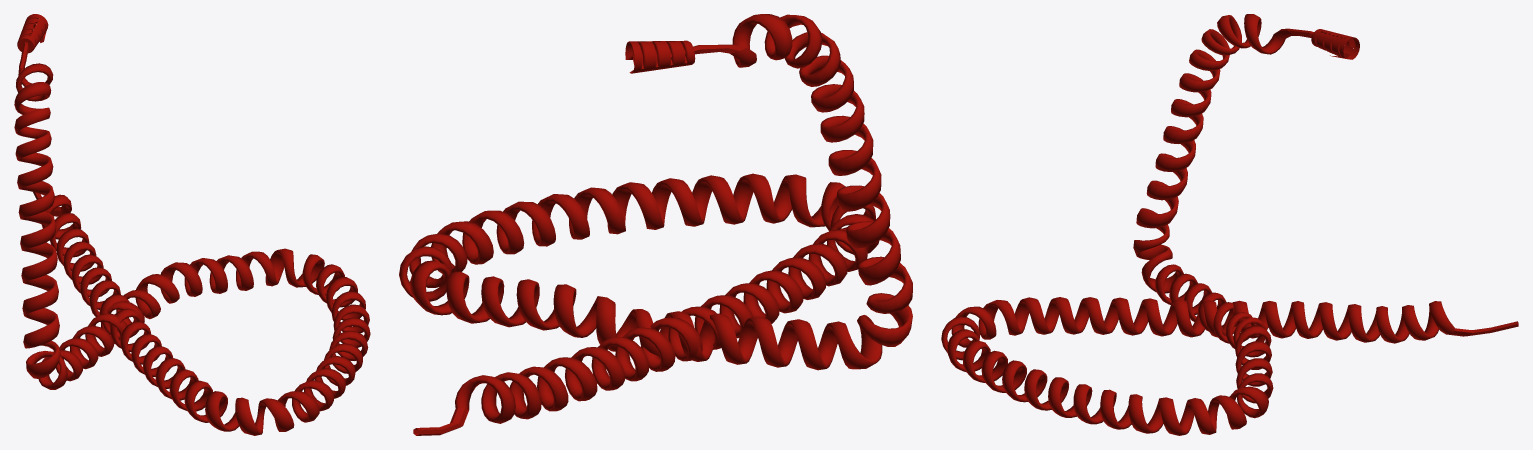
Rendered from phone_cable.glb.
3 renders of one model, left to right at view 1: azimuth 30°, elevation 25°; view 2: azimuth 150°, elevation 25°; view 3: azimuth 270°, elevation 25°, orthographic. The views are drawn at different scales.
Visible parts, largest first — view 1: Phone_cable; view 2: Phone_cable; view 3: Phone_cable.
Part boxes in pixels (x1,y1,x2,y2): Phone_cable: (14, 14, 370, 435); Phone_cable: (399, 14, 912, 435); Phone_cable: (941, 14, 1518, 435).
Bounding box in the file's own units: 0.1404 × 0.1134 × 0.2021.
1 material, 1 textured.
